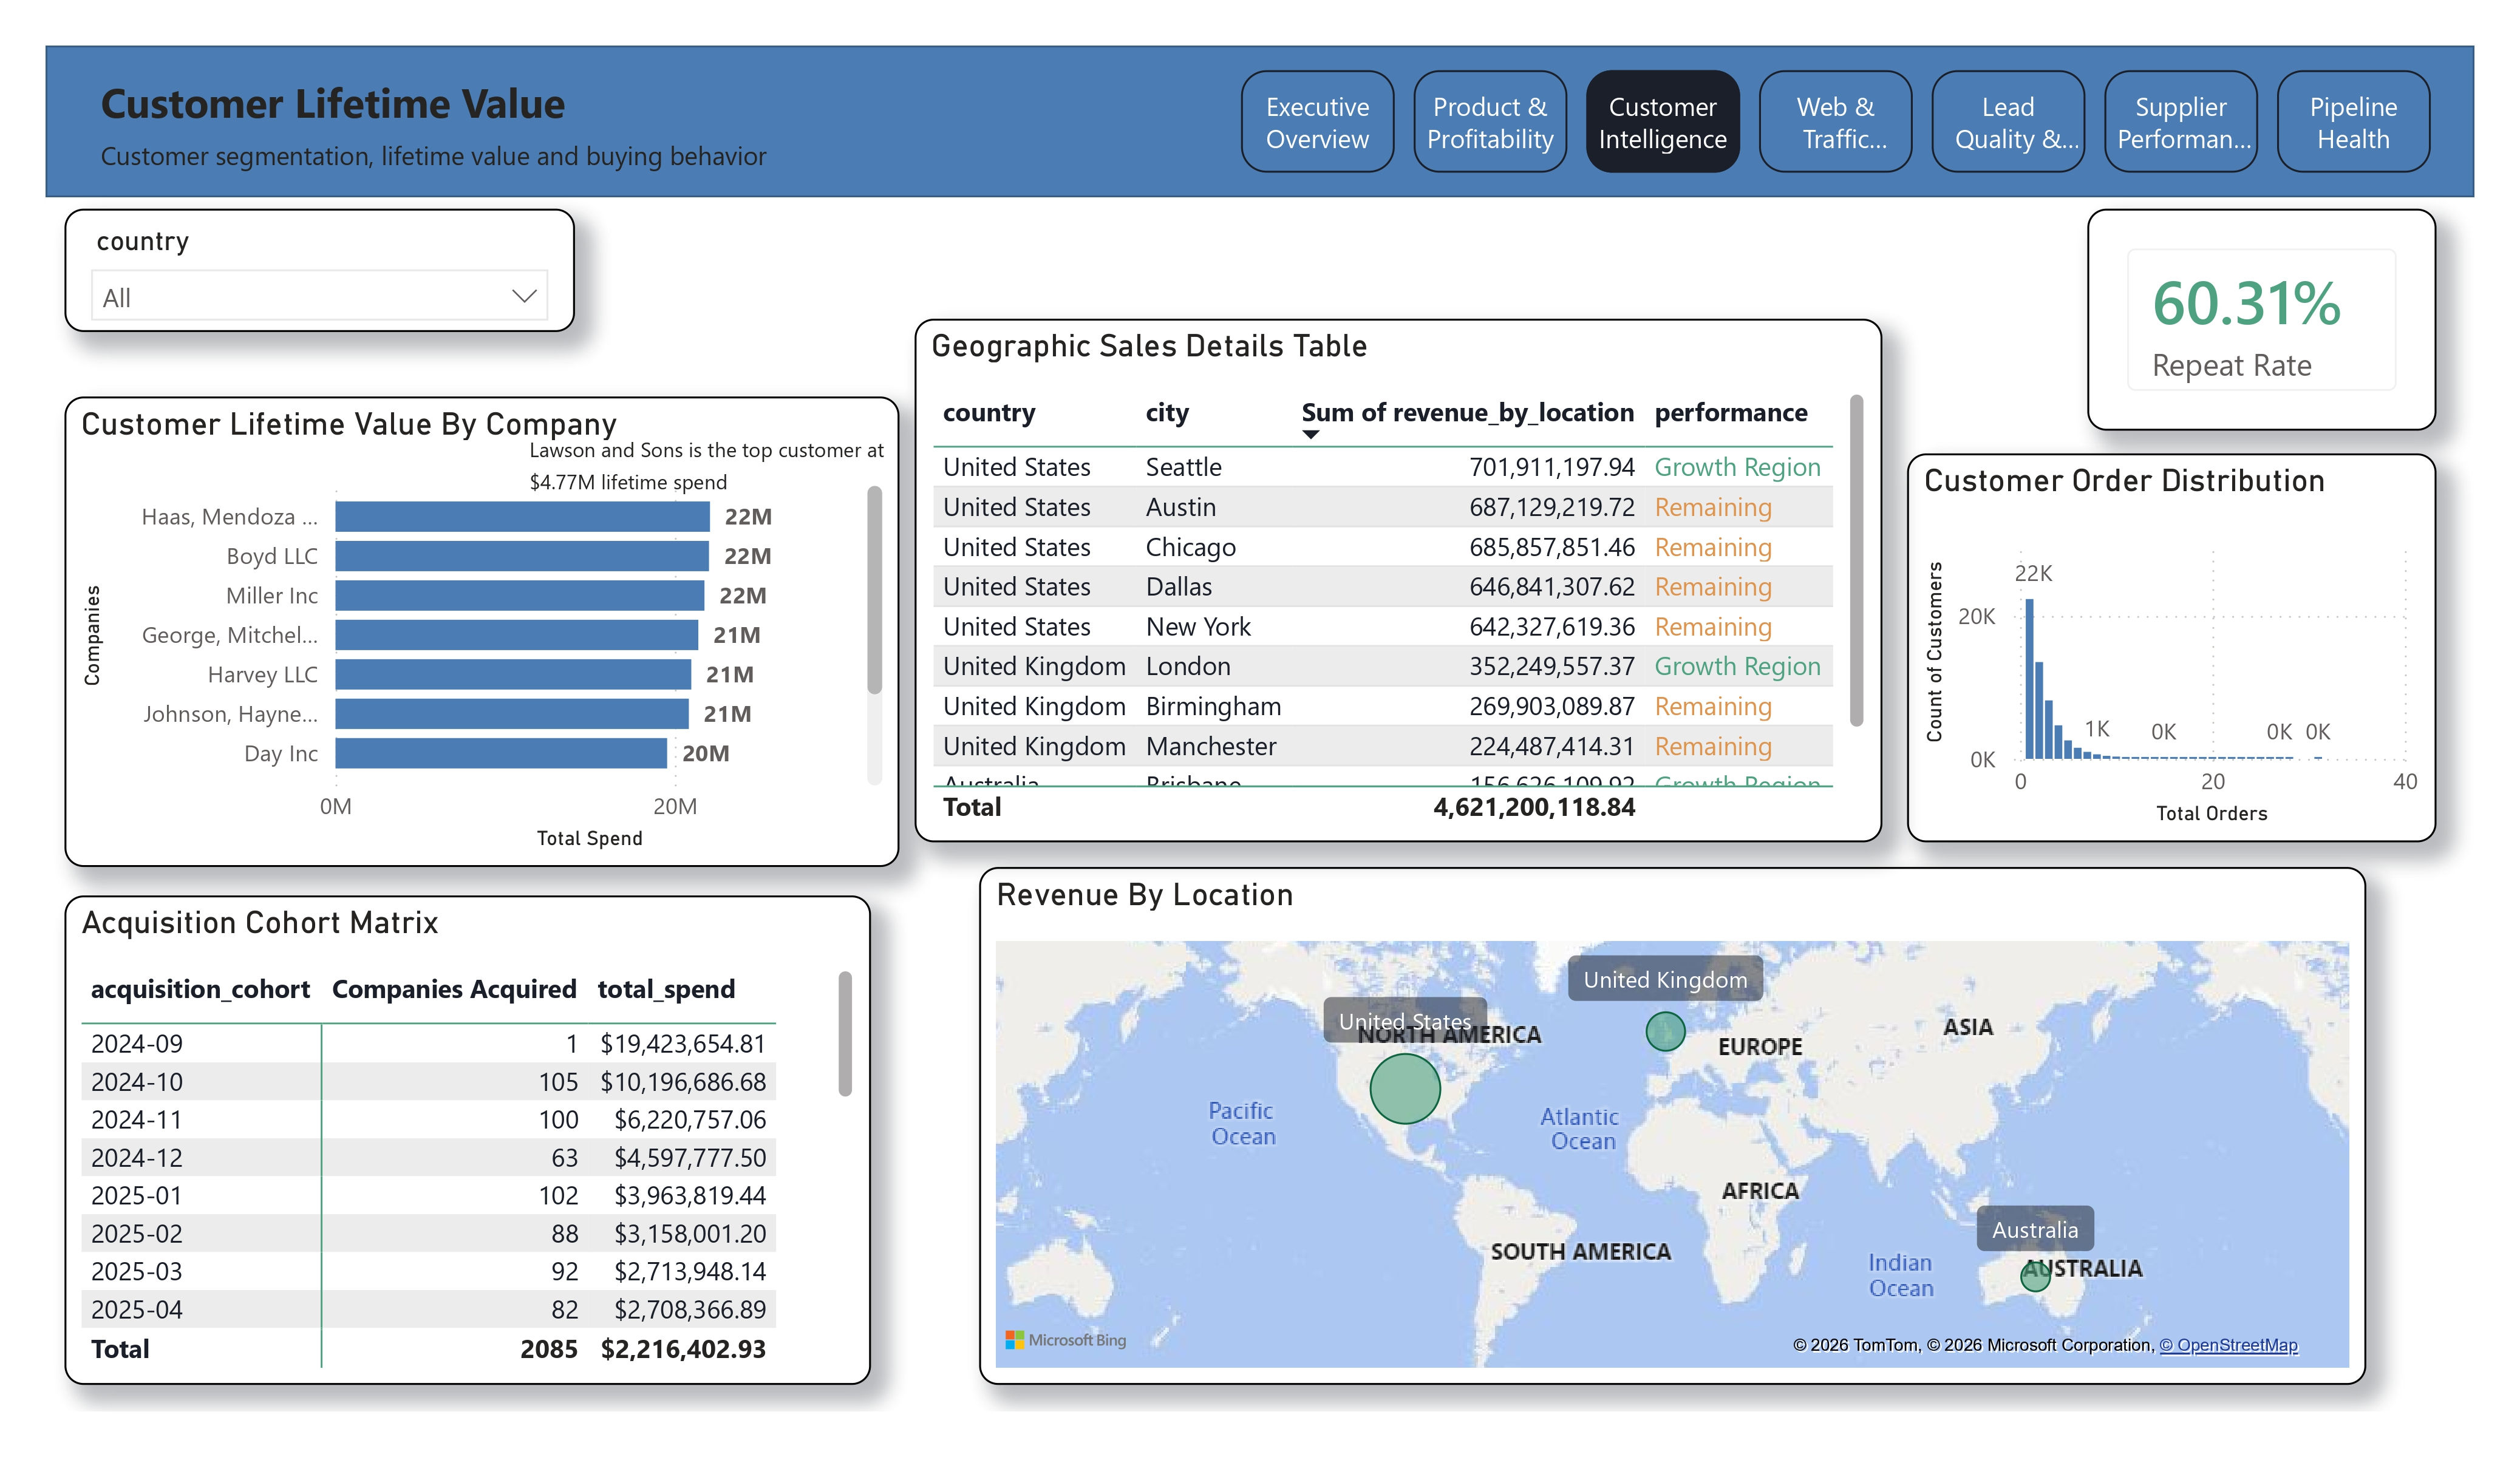

The dashboard page shown, as its layout file describes it:
{"tool":"powerbi","page":{"name":"Customer Intelligence","canvas":[1280,720],"ordinal":2},"visuals":[{"type":"shape","box":[0,0,1280,80],"z":0},{"type":"barChart","title":"Customer Lifetime Value By Company","fields":{"Category":["marts vw_customer_lifetime_value.company_name"],"Y":["Sum(marts vw_customer_lifetime_value.total_spend)"]},"box":[10.5,184.9,439.5,247.7],"z":1000},{"type":"pivotTable","title":"Acquisition Cohort Matrix","fields":{"Rows":["marts vw_customer_lifetime_value.acquisition_cohort"],"Values":["CountNonNull(marts vw_customer_lifetime_value.company_name)","Avg(marts vw_customer_lifetime_value.total_spend)"]},"box":[10.5,447.7,424.4,258.1],"z":2000},{"type":"cardVisual","fields":{"Data":["Measure.Repeat Rate"]},"box":[1075.6,86,184.9,117.4],"z":3000},{"type":"clusteredColumnChart","title":"Customer Order Distribution","fields":{"Category":["marts vw_customer_activity.total_orders (bins)"],"Y":["CountNonNull(marts vw_customer_activity.customer_key)"]},"box":[981.4,215.1,279.1,204.7],"z":4000},{"type":"map","title":"Revenue By Location","fields":{"Category":["marts vw_geographic_sales.country","marts vw_geographic_sales.city"],"Size":["Sum(marts vw_geographic_sales.revenue_by_location)"]},"box":[491.9,432.6,731.4,273.3],"z":5000},{"type":"tableEx","title":"Geographic Sales Details Table","fields":{"Values":["marts vw_geographic_sales.country","marts vw_geographic_sales.city","Sum(marts vw_geographic_sales.revenue_by_location)","marts vw_geographic_sales.performance"]},"box":[458.1,144.2,510.3,275.6],"z":6000},{"type":"textbox","box":[24.4,10.5,564,41.9],"z":7000},{"type":"textbox","box":[24.4,44.2,550,36],"z":8000},{"type":"pageNavigator","box":[630.2,12.8,630.2,54.7],"z":9000},{"type":"textbox","box":[250,197.7,200,48.8],"z":10000},{"type":"slicer","fields":{"Values":["marts vw_customer_lifetime_value.country"]},"box":[10.5,86,269,64.9],"z":11000}]}

Visuals, with their boxes in screenshot pixels (x1, y1, x2, y2):
shape: x1=59 y1=39 x2=2456 y2=189
"Customer Lifetime Value By Company" barChart: x1=79 y1=385 x2=902 y2=849
"Acquisition Cohort Matrix" pivotTable: x1=79 y1=878 x2=874 y2=1361
cardVisual - Measure.Repeat Rate: x1=2073 y1=200 x2=2420 y2=420
"Customer Order Distribution" clusteredColumnChart: x1=1897 y1=442 x2=2420 y2=826
"Revenue By Location" map: x1=980 y1=849 x2=2350 y2=1361
"Geographic Sales Details Table" tableEx: x1=917 y1=310 x2=1873 y2=826
textbox: x1=105 y1=59 x2=1161 y2=137
textbox: x1=105 y1=122 x2=1135 y2=189
pageNavigator: x1=1239 y1=63 x2=2419 y2=166
textbox: x1=527 y1=410 x2=902 y2=501
slicer - marts vw_customer_lifetime_value.country: x1=79 y1=200 x2=582 y2=322
